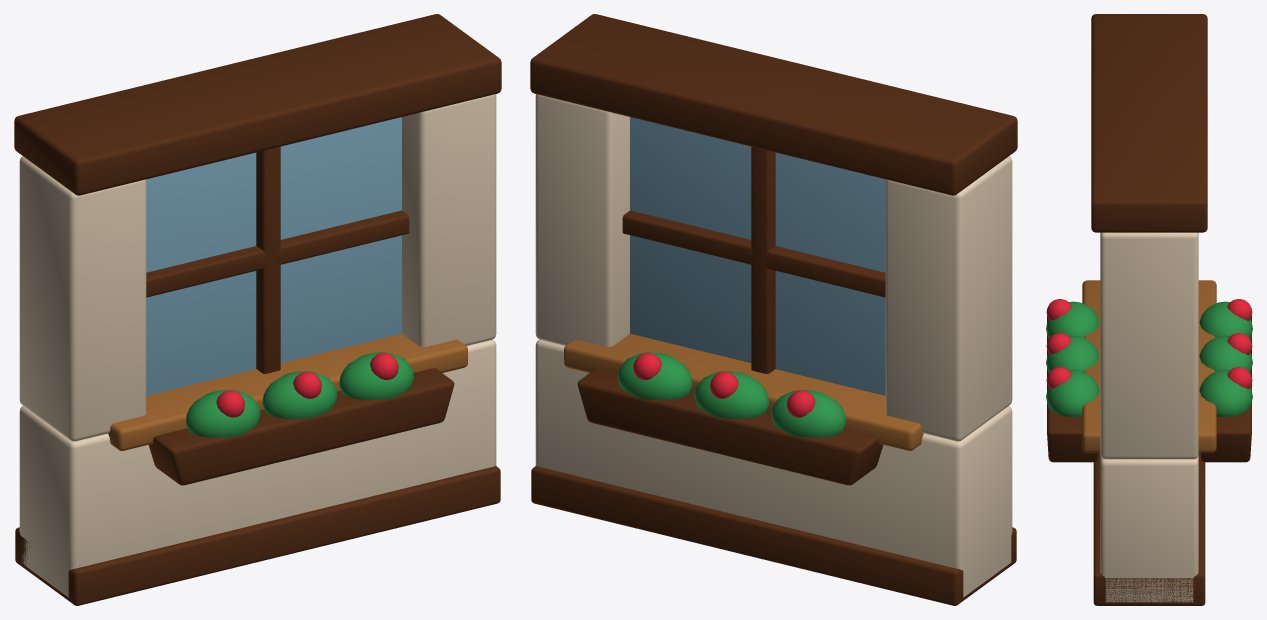
The model's file is wall_window_closed.gltf.
3 views of the same model, side by side, from view 1: azimuth 30°, elevation 25°; view 2: azimuth 150°, elevation 25°; view 3: azimuth 270°, elevation 25° (orthographic). The views are drawn at different scales.
Parts seen in each view (by area): view 1: WinLowerWall; view 2: WinLowerWall; view 3: WinLowerWall.
Boxes of the visible parts, x1,y1,x2,y2 form: WinLowerWall: (14,14,501,605); WinLowerWall: (530,14,1017,605); WinLowerWall: (1046,14,1252,605).
Size of the model in its own units: 1 by 1 by 0.4624.
